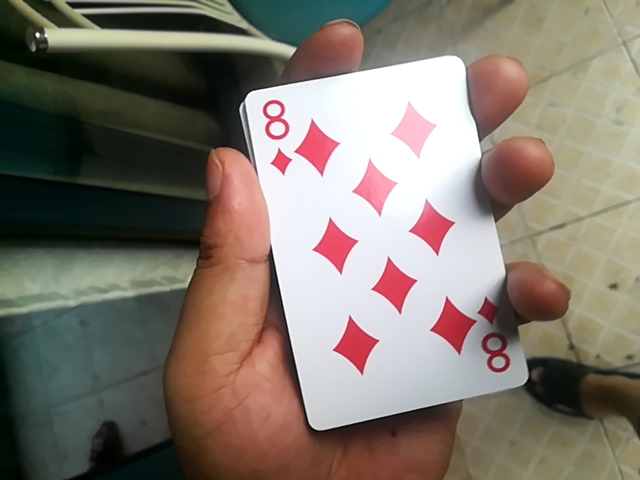fk 8: (248, 36, 524, 441)
